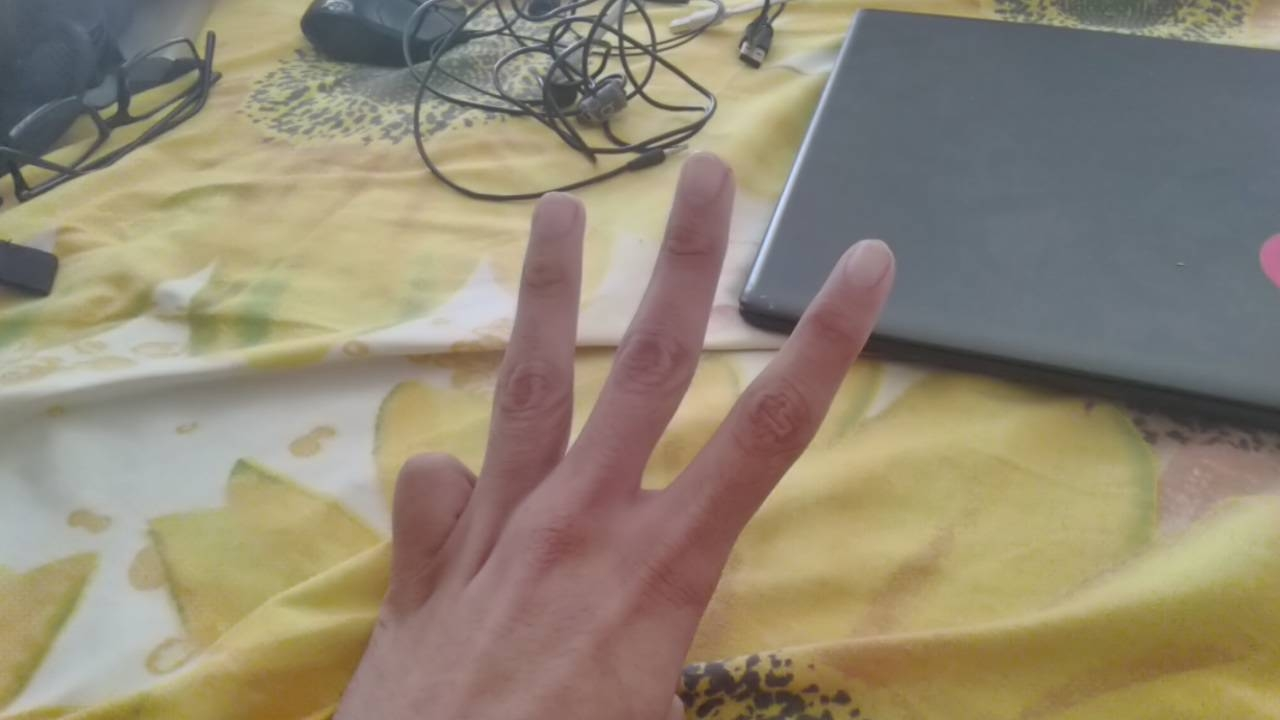fingertip: (518, 182, 588, 250), (832, 238, 908, 298), (668, 144, 734, 206)
